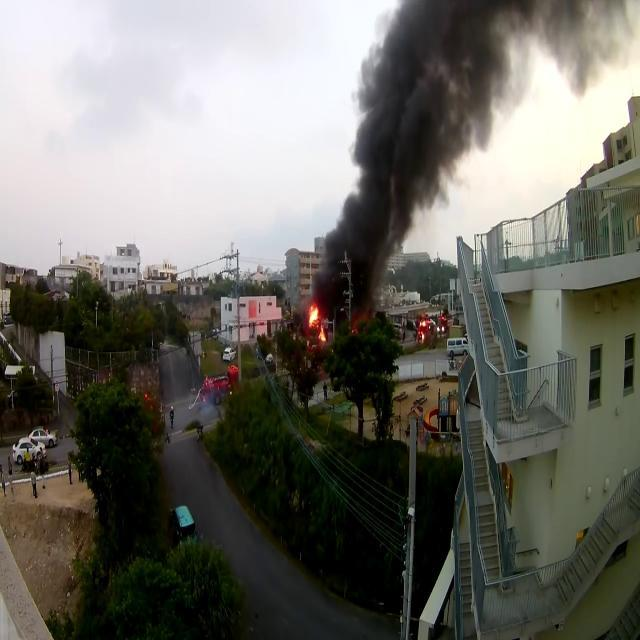Fire: (306, 304, 320, 324), (318, 326, 327, 339)
